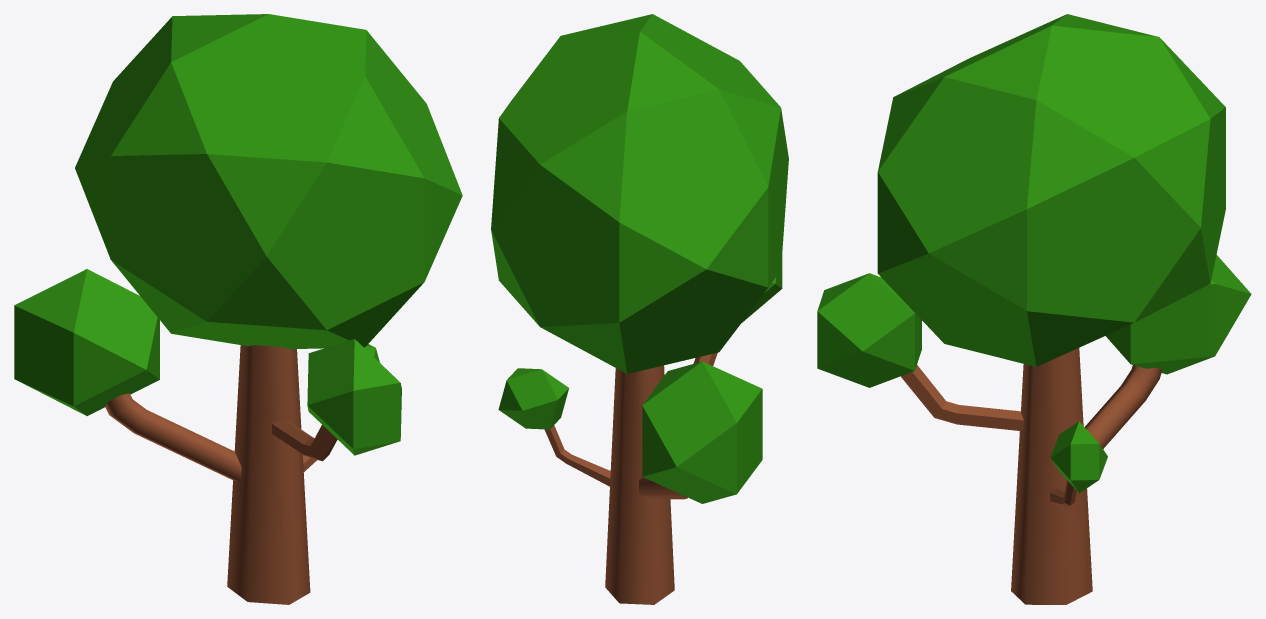
File: cay to.FBX
3 renders of one model, left to right at view 1: azimuth 30°, elevation 25°; view 2: azimuth 150°, elevation 25°; view 3: azimuth 270°, elevation 25°, orthographic. The views are drawn at different scales.
Visible parts, largest first — view 1: Cylinder251; view 2: Cylinder251; view 3: Cylinder251.
Boxes of the visible parts, <box> form: Cylinder251: <box>14,14,462,604</box>; Cylinder251: <box>491,14,788,604</box>; Cylinder251: <box>817,14,1251,604</box>.
Bounding box in the file's own units: 3.51 × 5.99 × 4.16.
